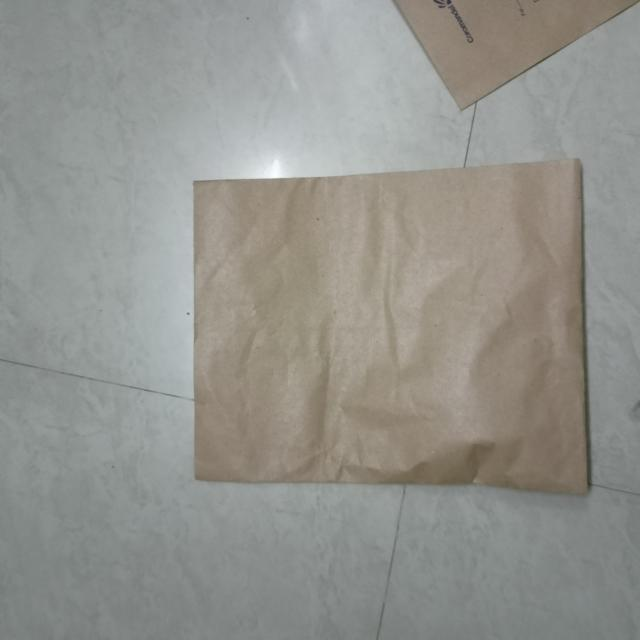box: (193, 160, 593, 498)
